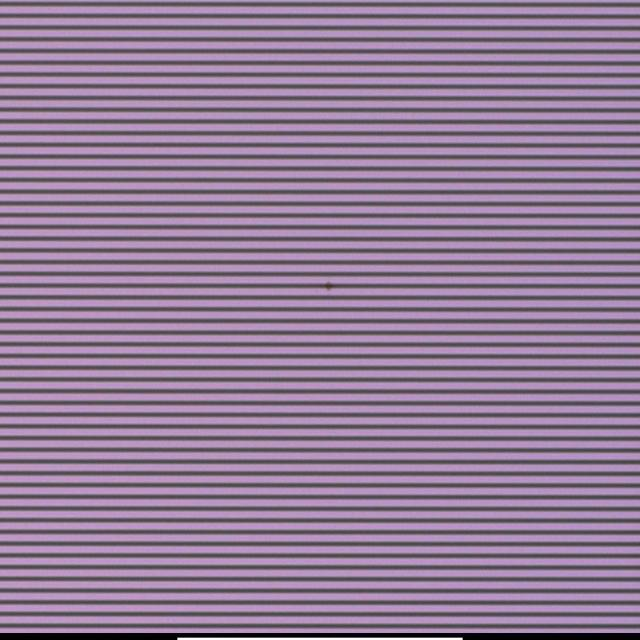03_intrusion: (324, 279, 336, 294)
